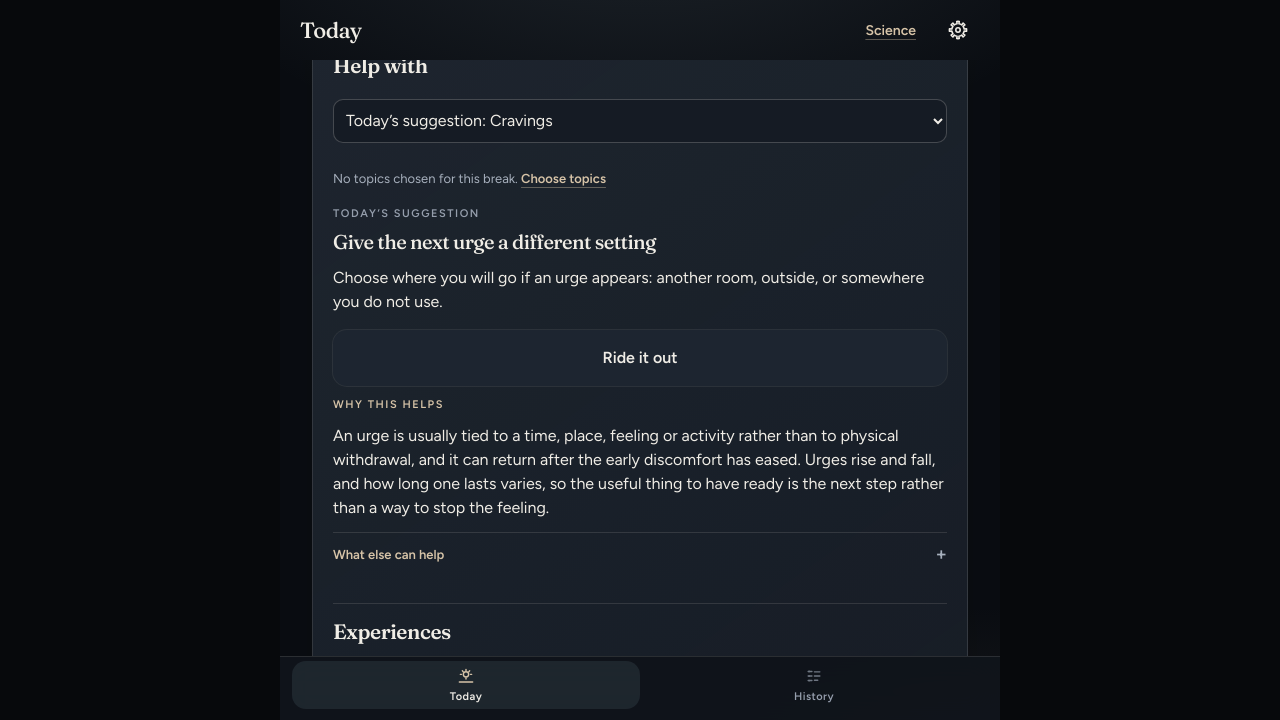
Scenario: ride it out › starts a timer from the day card and counts down the chosen length
(page scrolled)
Click the button with test id "open-ride-it-out" at (640, 358), box 333,330 -> 947,386
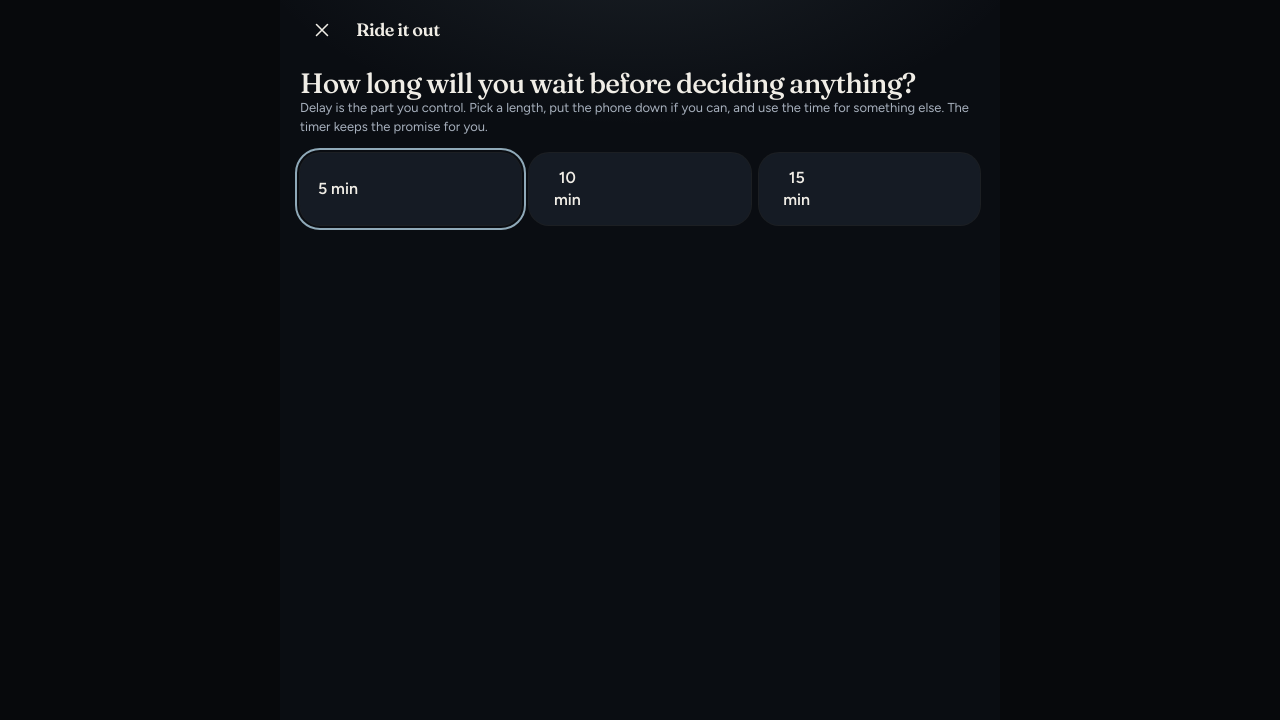
Click the button with test id "urge-minutes-10" at (640, 189), box 529,153 -> 751,225
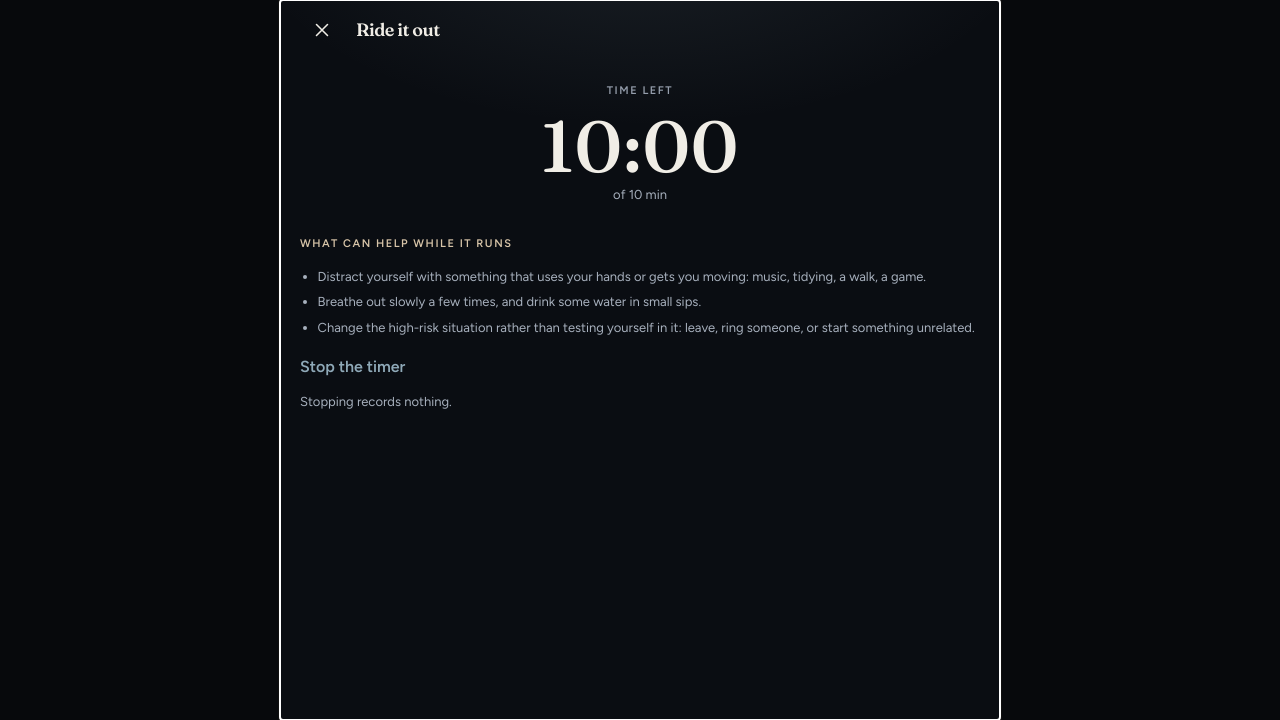
Expected: the text with test id "ride-countdown" reads "10:00", 541,102 -> 739,190
